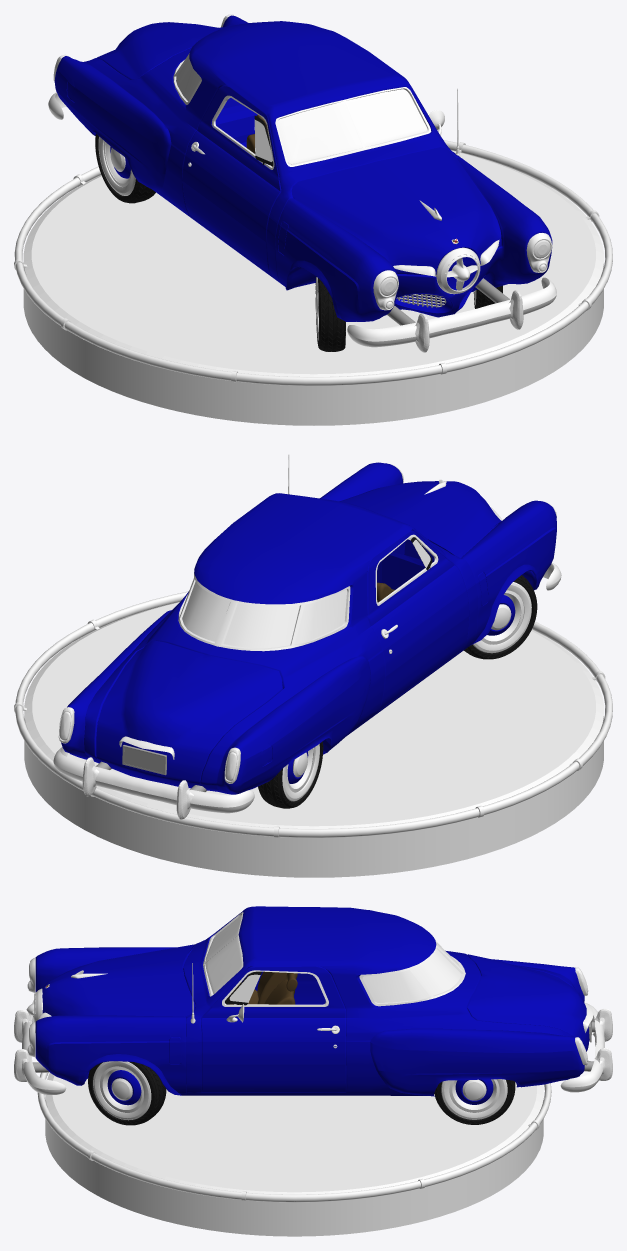
The model's file is StudeBakerExport.fbx.
3 views of the same model, one above another, from view 1: azimuth 30°, elevation 25°; view 2: azimuth 150°, elevation 25°; view 3: azimuth 270°, elevation 25° (orthographic). The views are drawn at different scales.
Visible parts, largest first — view 1: polySurface13, pCylinder22, pasted__pTorus1, Windshield, loftedSurface3, pCylinder23, polySurface22, polySurface10, pasted__pCylinder11, nurbsToPoly2, pCylinder2, pCylinder15 (+3 smaller); view 2: polySurface13, pCylinder22, pasted__pTorus1, loftedSurface1, polySurface6, pCylinder23, polySurface8, polySurface7, nurbsToPoly1, Brake_Lights, polySurface24, License_plate (+2 smaller); view 3: polySurface13, pCylinder22, pasted__pTorus1, pCylinder23, Windshield, polySurface9, polySurface15, polySurface8, polySurface17, pCylinder18 (×2), loftedSurface1, loftedSurface3 (+6 smaller).
Boxes of the visible parts, x1,y1,x2,y2 form: polySurface13: (54, 15, 552, 321); pCylinder22: (23, 150, 603, 425); pasted__pTorus1: (14, 140, 612, 385); Windshield: (277, 89, 426, 164); loftedSurface3: (347, 277, 556, 347); pCylinder23: (95, 134, 155, 203); polySurface22: (315, 276, 345, 351); polySurface10: (275, 87, 431, 166); pasted__pCylinder11: (373, 233, 552, 310); nurbsToPoly2: (415, 290, 523, 352); pCylinder2: (435, 247, 480, 294); pCylinder15: (387, 278, 509, 325); polySurface13: (61, 462, 556, 794); pCylinder22: (24, 602, 603, 877); pasted__pTorus1: (15, 591, 612, 837); loftedSurface1: (53, 747, 254, 813); polySurface6: (223, 603, 299, 648); pCylinder23: (258, 741, 323, 808); polySurface8: (182, 581, 230, 641); polySurface7: (295, 589, 346, 644); nurbsToPoly1: (82, 757, 193, 819); Brake_Lights: (58, 707, 240, 783); polySurface24: (473, 582, 531, 653); License_plate: (122, 745, 166, 775); polySurface13: (35, 906, 589, 1096); pCylinder22: (45, 1073, 543, 1236); pasted__pTorus1: (37, 1072, 551, 1202); pCylinder23: (434, 1079, 515, 1124); Windshield: (205, 915, 242, 994); polySurface9: (362, 970, 430, 1002); polySurface15: (88, 1061, 166, 1125); polySurface8: (412, 949, 461, 995); polySurface17: (93, 1061, 151, 1120); pCylinder18 (×2): (257, 971, 295, 1004); loftedSurface1: (560, 1002, 604, 1092); loftedSurface3: (22, 1013, 66, 1094).
Bounding box in the file's own units: 4.58 × 2 × 5.33.
